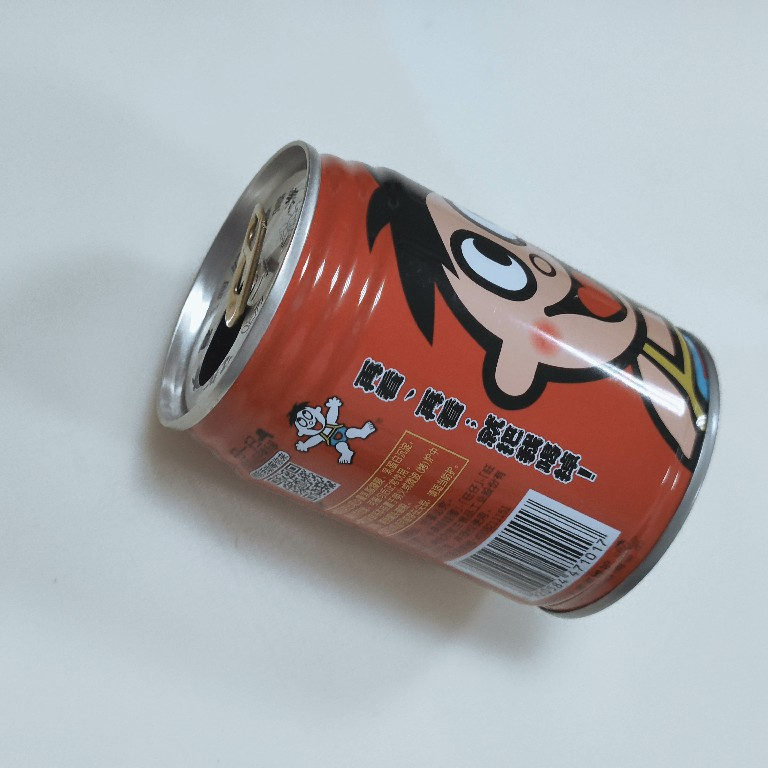can: (148, 138, 725, 620)
